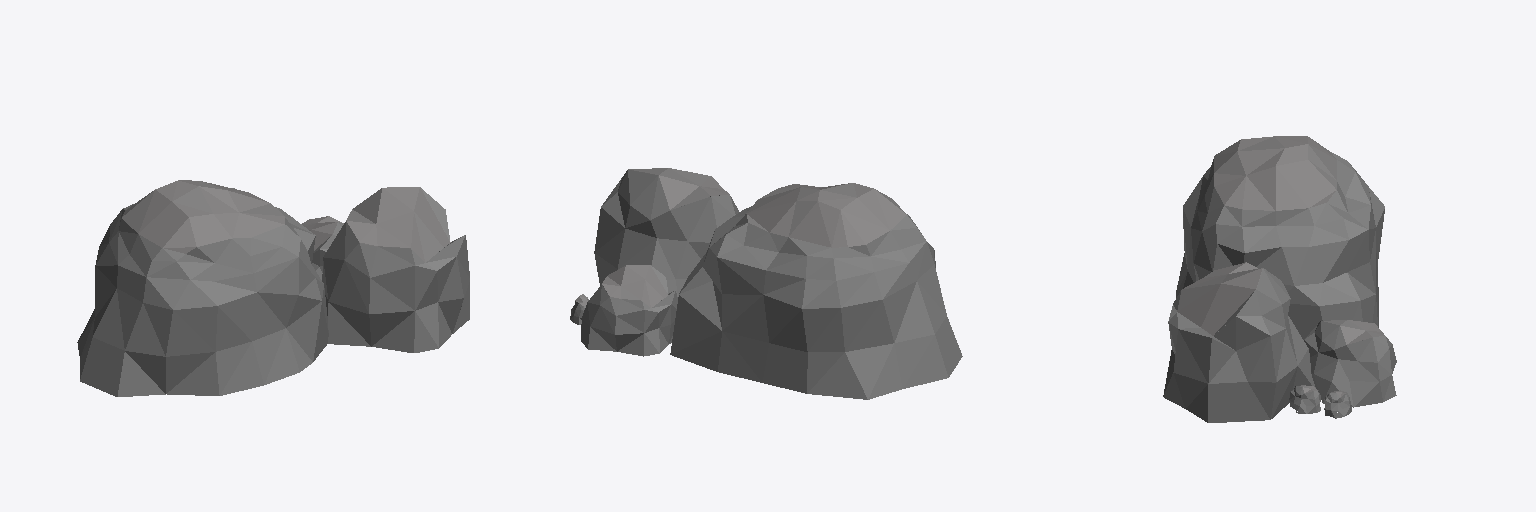
3 renders of one model, left to right at view 1: azimuth 30°, elevation 25°; view 2: azimuth 150°, elevation 25°; view 3: azimuth 270°, elevation 25°, orthographic.
Parts seen in each view (by area): view 1: pasted__pCube1 group1 group5, group5 pasted__pCube1 group, group5 pasted__pasted__pCube1 pasted__group group2; view 2: pasted__pCube1 group1 group5, group5 pasted__pCube1 group, group5 pasted__pasted__pCube1 pasted__group group2; view 3: pasted__pCube1 group1 group5, group5 pasted__pCube1 group, group5 pasted__pasted__pCube1 pasted__group group2, group5 pasted__pasted__pasted__pCube1 pasted__pasted__group past, group5 pasted__pasted__pasted__pasted__pCube1 pasted__pasted__pa.
Boxes of the visible parts, x1=… form: pasted__pCube1 group1 group5: x1=77, y1=180, x2=328, y2=396; group5 pasted__pCube1 group: x1=322, y1=187, x2=469, y2=352; group5 pasted__pasted__pCube1 pasted__group group2: x1=302, y1=216, x2=343, y2=279; pasted__pCube1 group1 group5: x1=670, y1=183, x2=962, y2=399; group5 pasted__pCube1 group: x1=594, y1=168, x2=738, y2=300; group5 pasted__pasted__pCube1 pasted__group group2: x1=581, y1=265, x2=677, y2=356; pasted__pCube1 group1 group5: x1=1176, y1=136, x2=1384, y2=339; group5 pasted__pCube1 group: x1=1163, y1=262, x2=1315, y2=422; group5 pasted__pasted__pCube1 pasted__group group2: x1=1304, y1=320, x2=1396, y2=407; group5 pasted__pasted__pasted__pCube1 pasted__pasted__group past: x1=1289, y1=385, x2=1320, y2=413; group5 pasted__pasted__pasted__pasted__pCube1 pasted__pasted__pa: x1=1324, y1=390, x2=1351, y2=418.
Bounding box in the file's own units: 5.07 × 2.21 × 2.88.
Materials: 1 (1 with a texture image).